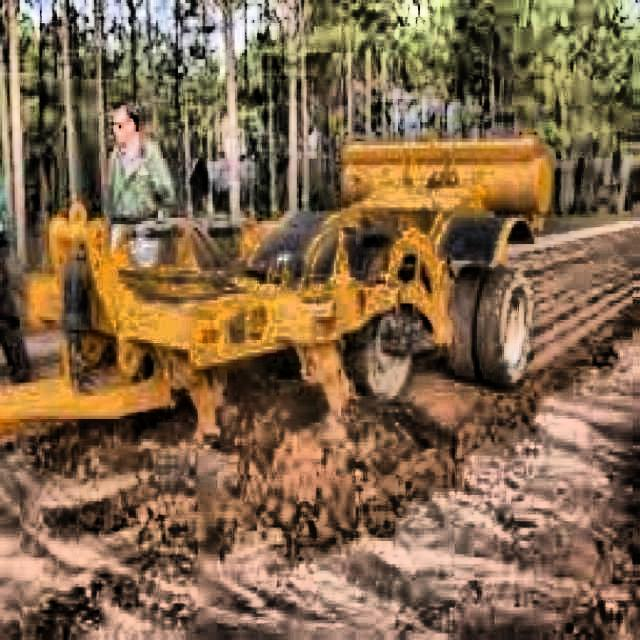bull_dozer/loader/grader: (0, 133, 556, 444)
person: (104, 99, 178, 268)
